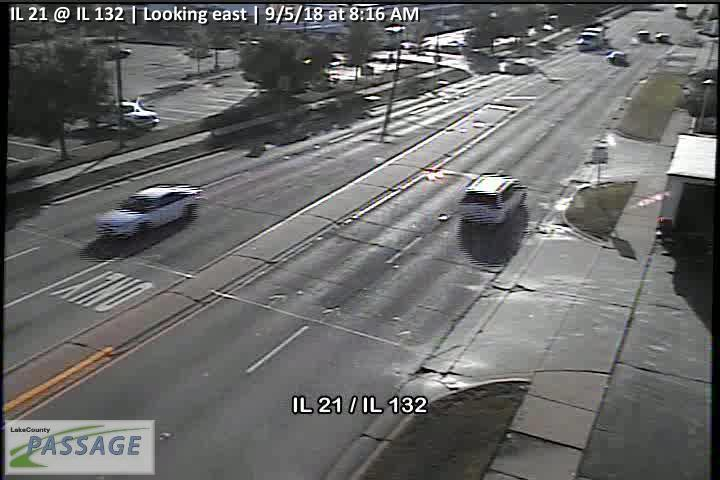SUV: (459, 172, 527, 226)
Sedan: (96, 182, 203, 239)
Truck: (96, 100, 160, 132)
